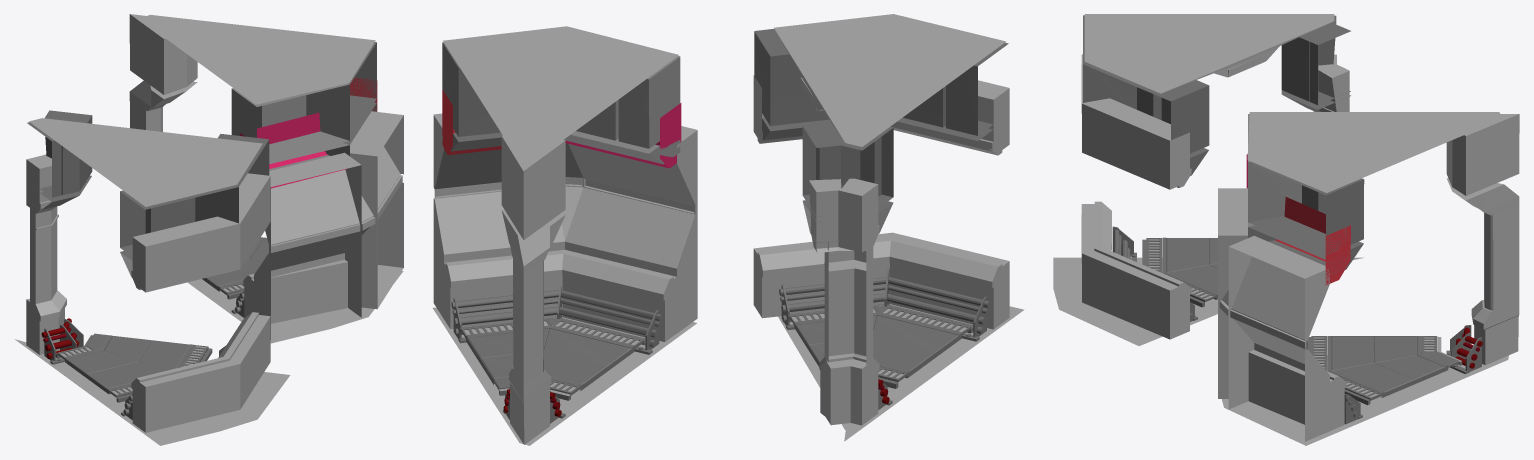
File: Corridor_Chunk_3_45Degree.fbx
3 renders of one model, left to right at view 1: azimuth 30°, elevation 25°; view 2: azimuth 150°, elevation 25°; view 3: azimuth 270°, elevation 25°, orthographic. The views are drawn at different scales.
Visible parts, largest first — view 1: Coridoor_chunk_1_MayaRemodel2:polySurface114, pPlane1, roof_1_45.001, Cube.016, Cube.029, polySurface48, polySurface47, Door_1___Corridor_EVERYTHING_21.009, Plane, Door_1___Corridor_EVERYTHING_21.052, Cube.000, Door_1___Corridor_EVERYTHING_21.055 (+13 smaller); view 2: Coridoor_chunk_1_MayaRemodel2:polySurface114, pPlane1, roof_1_45.001, Cube.029, polySurface47, Door_1___Corridor_EVERYTHING_21.055, Cube.013, Cube.000, Cube.015, Door_1___Corridor_EVERYTHING_21.000, polySurface29, polySurface48 (+23 smaller); view 3: Coridoor_chunk_1_MayaRemodel2:polySurface114, roof_1_45.001, pPlane1, Cube.017, Cube.000, polySurface29, polySurface28, Door_1___Corridor_EVERYTHING_21.000, Door_1___Corridor_EVERYTHING_21.055, Plane, polySurface16, Door_1___Corridor_EVERYTHING_21.052 (+13 smaller).
Boxes of the visible parts, <box> form: Coridoor_chunk_1_MayaRemodel2:polySurface114: <box>129,14,403,339</box>; pPlane1: <box>139,14,375,104</box>; roof_1_45.001: <box>29,118,262,206</box>; Cube.016: <box>131,216,240,292</box>; Cube.029: <box>131,357,240,432</box>; polySurface48: <box>231,83,349,160</box>; polySurface47: <box>243,259,347,323</box>; Door_1___Corridor_EVERYTHING_21.009: <box>120,185,238,277</box>; Plane: <box>15,339,290,445</box>; Door_1___Corridor_EVERYTHING_21.052: <box>67,336,189,392</box>; Cube.000: <box>218,312,270,409</box>; Door_1___Corridor_EVERYTHING_21.055: <box>27,110,92,210</box>; Coridoor_chunk_1_MayaRemodel2:polySurface114: <box>433,113,697,444</box>; pPlane1: <box>443,26,678,160</box>; roof_1_45.001: <box>774,14,1005,146</box>; Cube.029: <box>889,232,1009,329</box>; polySurface47: <box>562,250,676,341</box>; Door_1___Corridor_EVERYTHING_21.055: <box>802,122,893,243</box>; Cube.013: <box>824,242,873,365</box>; Cube.000: <box>753,232,892,318</box>; Cube.015: <box>809,178,879,252</box>; Door_1___Corridor_EVERYTHING_21.000: <box>754,29,831,140</box>; polySurface29: <box>442,250,563,329</box>; polySurface48: <box>576,56,680,148</box>; Coridoor_chunk_1_MayaRemodel2:polySurface114: <box>1218,114,1519,441</box>; roof_1_45.001: <box>1084,14,1334,93</box>; pPlane1: <box>1247,112,1502,192</box>; Cube.017: <box>1082,98,1191,189</box>; Cube.000: <box>1082,247,1191,339</box>; polySurface29: <box>1248,350,1346,433</box>; polySurface28: <box>1248,161,1364,255</box>; Door_1___Corridor_EVERYTHING_21.000: <box>1083,63,1209,175</box>; Door_1___Corridor_EVERYTHING_21.055: <box>1281,15,1350,111</box>; Plane: <box>1053,257,1363,345</box>; polySurface16: <box>1221,355,1508,445</box>; Door_1___Corridor_EVERYTHING_21.052: <box>1167,238,1217,293</box>.
Bounding box in the file's own units: 1214 × 730 × 1266.
